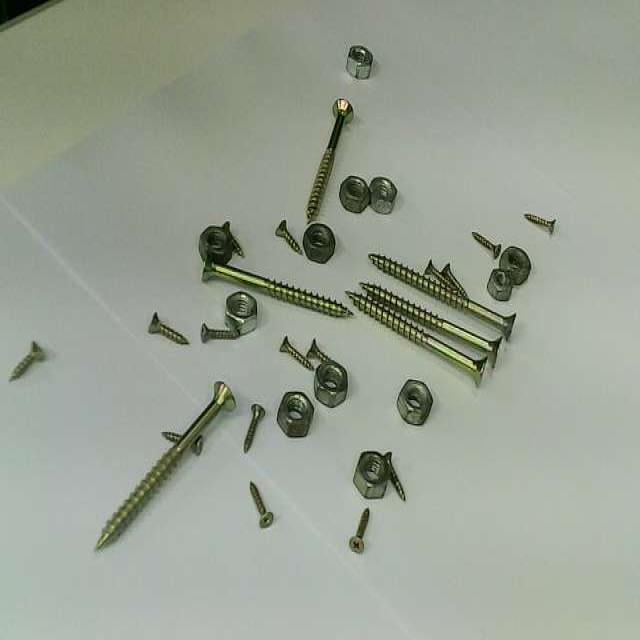Parafuso: (97, 383, 234, 548), (347, 291, 486, 384), (370, 253, 514, 339), (361, 283, 501, 365), (203, 261, 351, 315), (307, 99, 352, 221), (10, 341, 44, 380), (149, 312, 188, 343), (281, 336, 313, 368), (250, 481, 272, 525), (385, 452, 405, 500), (244, 405, 264, 452), (425, 260, 456, 289), (276, 220, 301, 253), (349, 511, 369, 552), (442, 263, 466, 296), (222, 221, 243, 256), (472, 232, 500, 257), (202, 324, 238, 341), (525, 213, 555, 233), (307, 339, 330, 360), (162, 431, 181, 441), (193, 436, 201, 453)
Porca: (277, 391, 313, 436), (354, 451, 388, 497), (314, 361, 347, 407), (398, 380, 432, 424), (225, 291, 257, 335), (199, 225, 231, 264), (303, 223, 335, 261), (500, 247, 530, 284), (339, 176, 369, 212), (370, 176, 395, 212), (346, 45, 372, 77), (487, 268, 512, 299)
